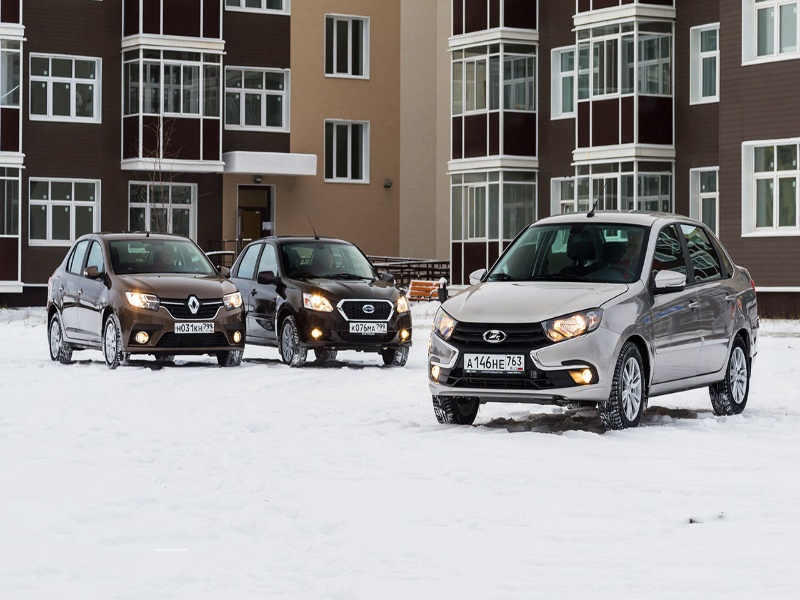car: (429, 210, 758, 430), (45, 232, 244, 369), (229, 237, 412, 368)
person: (624, 230, 642, 260), (159, 245, 176, 268), (319, 250, 335, 271)
plate: (464, 353, 523, 371), (174, 322, 213, 334), (350, 323, 387, 334)
